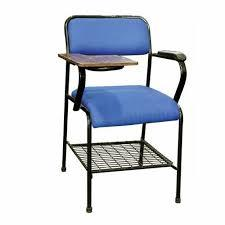chair: (55, 6, 191, 213)
